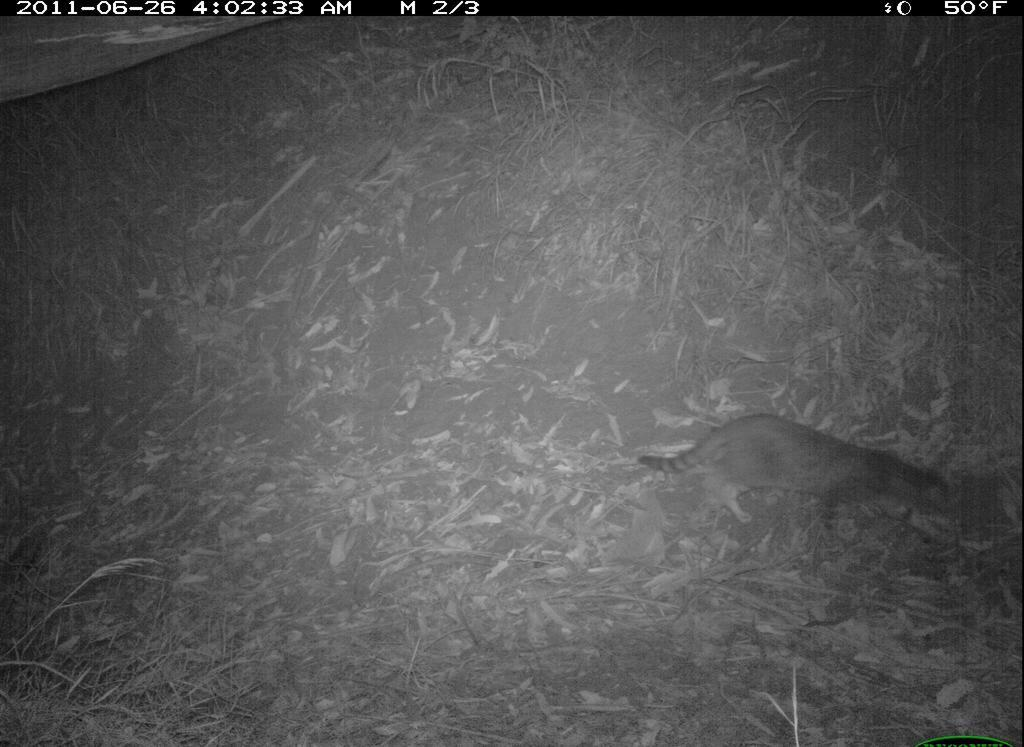cat: (646, 402, 967, 561)
